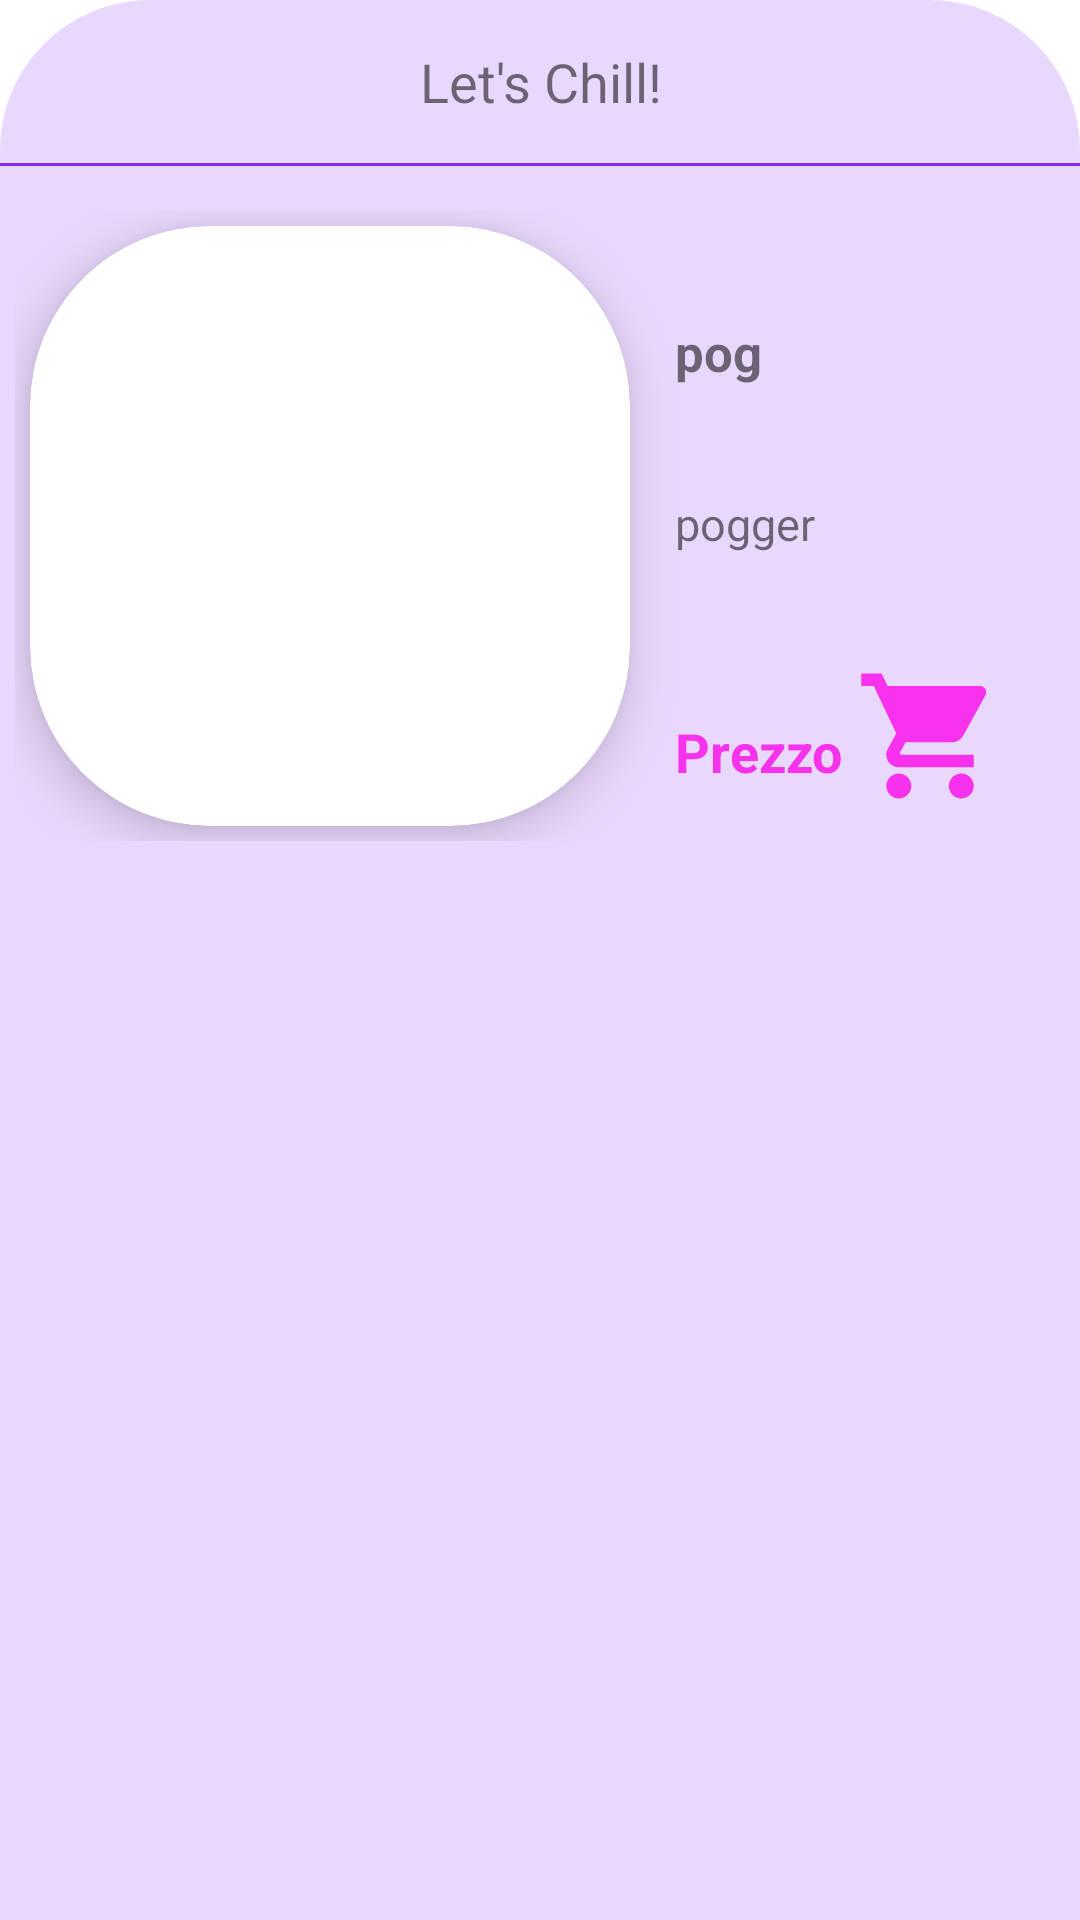

Icon bounding boxes for this 1080×1920 phone screenshot, format (x1, y1, x2, y2):
shopping cart: (861, 673, 987, 799)
